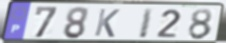2: (155, 9, 183, 39)
7: (34, 6, 59, 40)
8: (186, 8, 216, 41), (62, 5, 89, 40)
I: (137, 7, 155, 40)
K: (93, 8, 122, 39)
